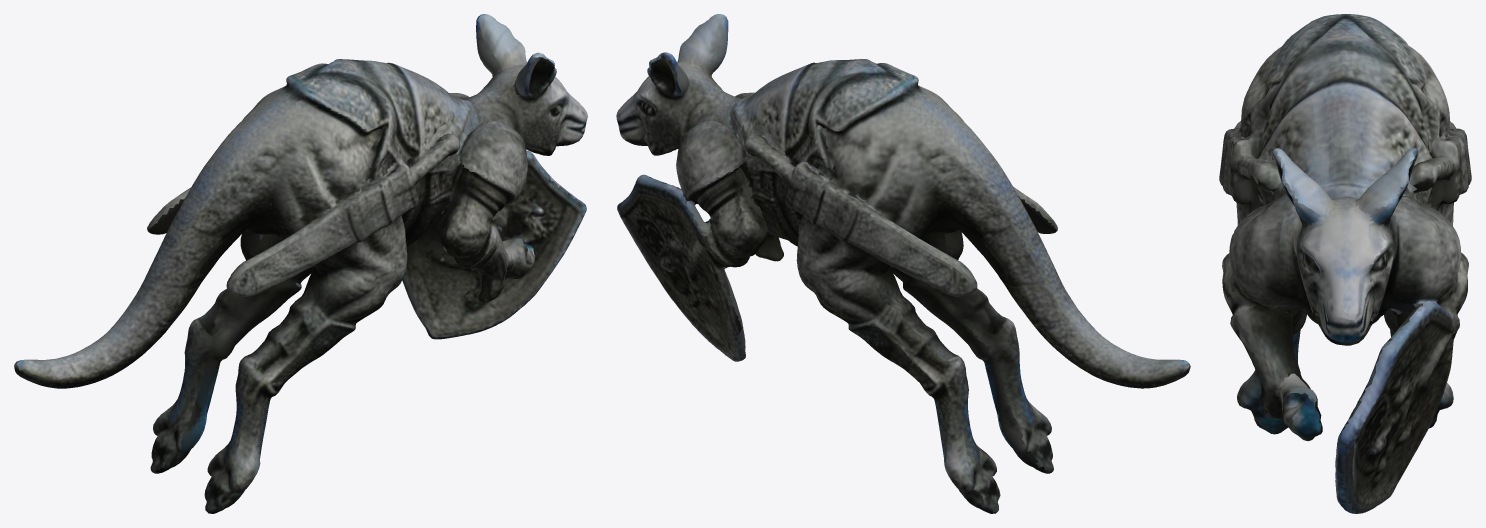
File: red-kangaroo.glb
3 renders of one model, left to right at view 1: azimuth 30°, elevation 25°; view 2: azimuth 150°, elevation 25°; view 3: azimuth 270°, elevation 25°, orthographic. The views are drawn at different scales.
Parts seen in each view (by area): view 1: tmp1sfne9q4.ply_1; view 2: tmp1sfne9q4.ply_1; view 3: tmp1sfne9q4.ply_1.
Boxes of the visible parts, box(x1,y1,x2,y2) form: tmp1sfne9q4.ply_1: box(14, 14, 587, 513); tmp1sfne9q4.ply_1: box(616, 14, 1190, 513); tmp1sfne9q4.ply_1: box(1219, 14, 1471, 513).
Size of the model in its own units: 1.96 by 1.28 by 0.5875.
1 material, 1 textured.
